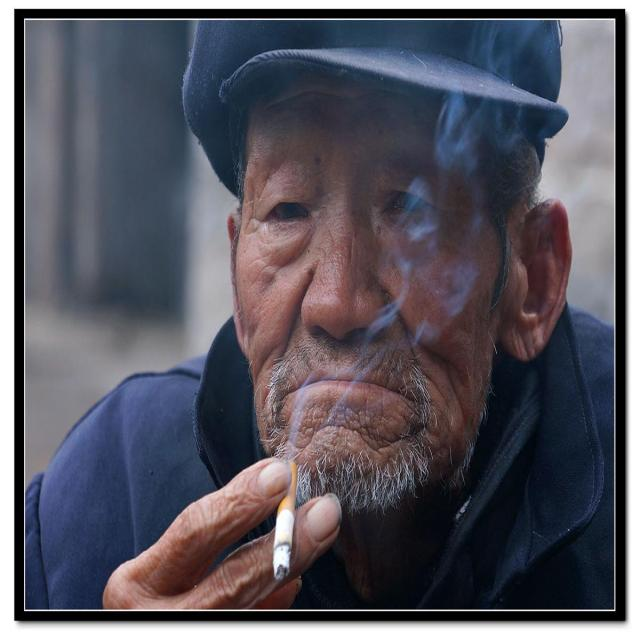cigarette: (272, 443, 302, 590)
